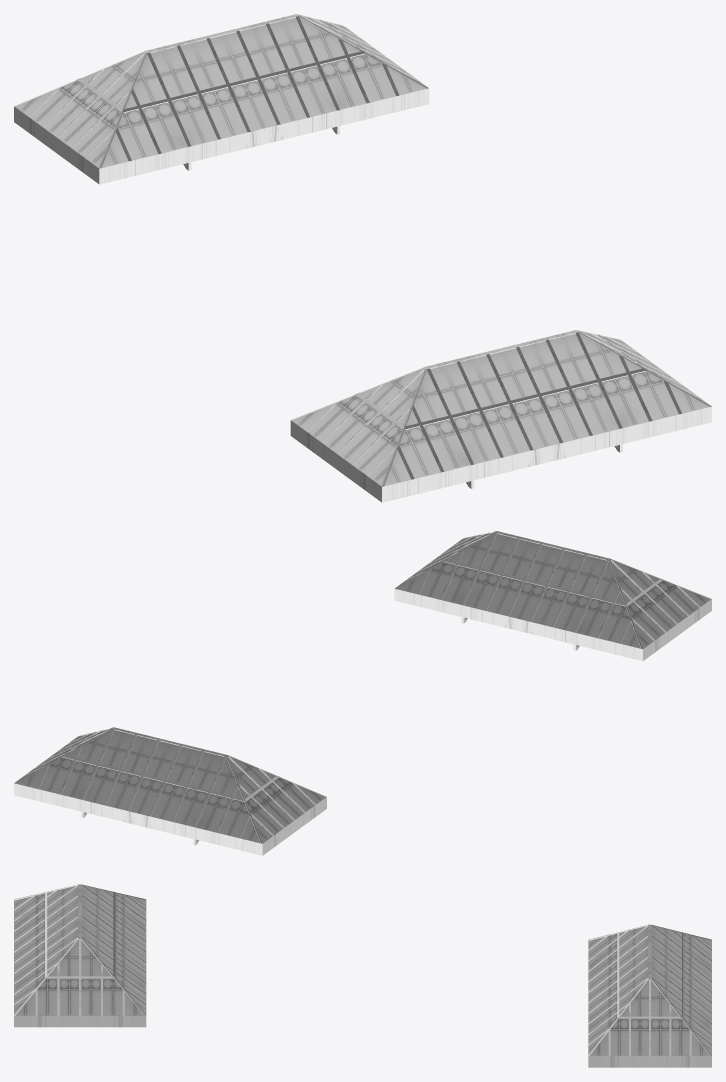
Rendered from Tragaluz.obj.
3 views of the same model, one above another, from view 1: azimuth 30°, elevation 25°; view 2: azimuth 150°, elevation 25°; view 3: azimuth 270°, elevation 25° (orthographic). The views are drawn at different scales.
Visible parts, largest first — view 1: Window_Plane_01_low, Window_Plane_01_low001, Components, Components001, Window_Plane_02_low, Window_Plane_02_low001; view 2: Window_Plane_01_low, Window_Plane_01_low001, Components, Components001, Window_Plane_02_low, Window_Plane_02_low001; view 3: Window_Plane_01_low, Window_Plane_01_low001, Components, Components001, Window_Plane_02_low, Window_Plane_02_low001.
Part boxes in pixels (x1,y1,x2,y2): Window_Plane_01_low: (385, 333, 707, 485); Window_Plane_01_low001: (102, 17, 424, 167); Components: (290, 330, 711, 502); Components001: (14, 14, 429, 184); Window_Plane_02_low: (293, 332, 705, 485); Window_Plane_02_low001: (16, 16, 424, 166); Window_Plane_01_low: (398, 534, 640, 648); Window_Plane_01_low001: (17, 730, 260, 842); Components: (394, 531, 711, 661); Components001: (14, 727, 326, 855); Window_Plane_02_low: (399, 532, 709, 647); Window_Plane_02_low001: (18, 729, 324, 842); Window_Plane_01_low: (15, 886, 145, 1013); Window_Plane_01_low001: (589, 926, 710, 1053); Components: (14, 884, 146, 1027); Components001: (588, 924, 711, 1067); Window_Plane_02_low: (16, 940, 143, 1015); Window_Plane_02_low001: (590, 980, 709, 1055).
Bounding box in the file's own units: 71.11 × 13.38 × 134.
